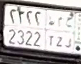2: (7, 7, 17, 45), (24, 9, 33, 47), (32, 10, 41, 48)
3: (17, 10, 25, 46)
J: (64, 16, 74, 50)
T: (46, 16, 55, 47)
Z: (55, 16, 64, 48)
